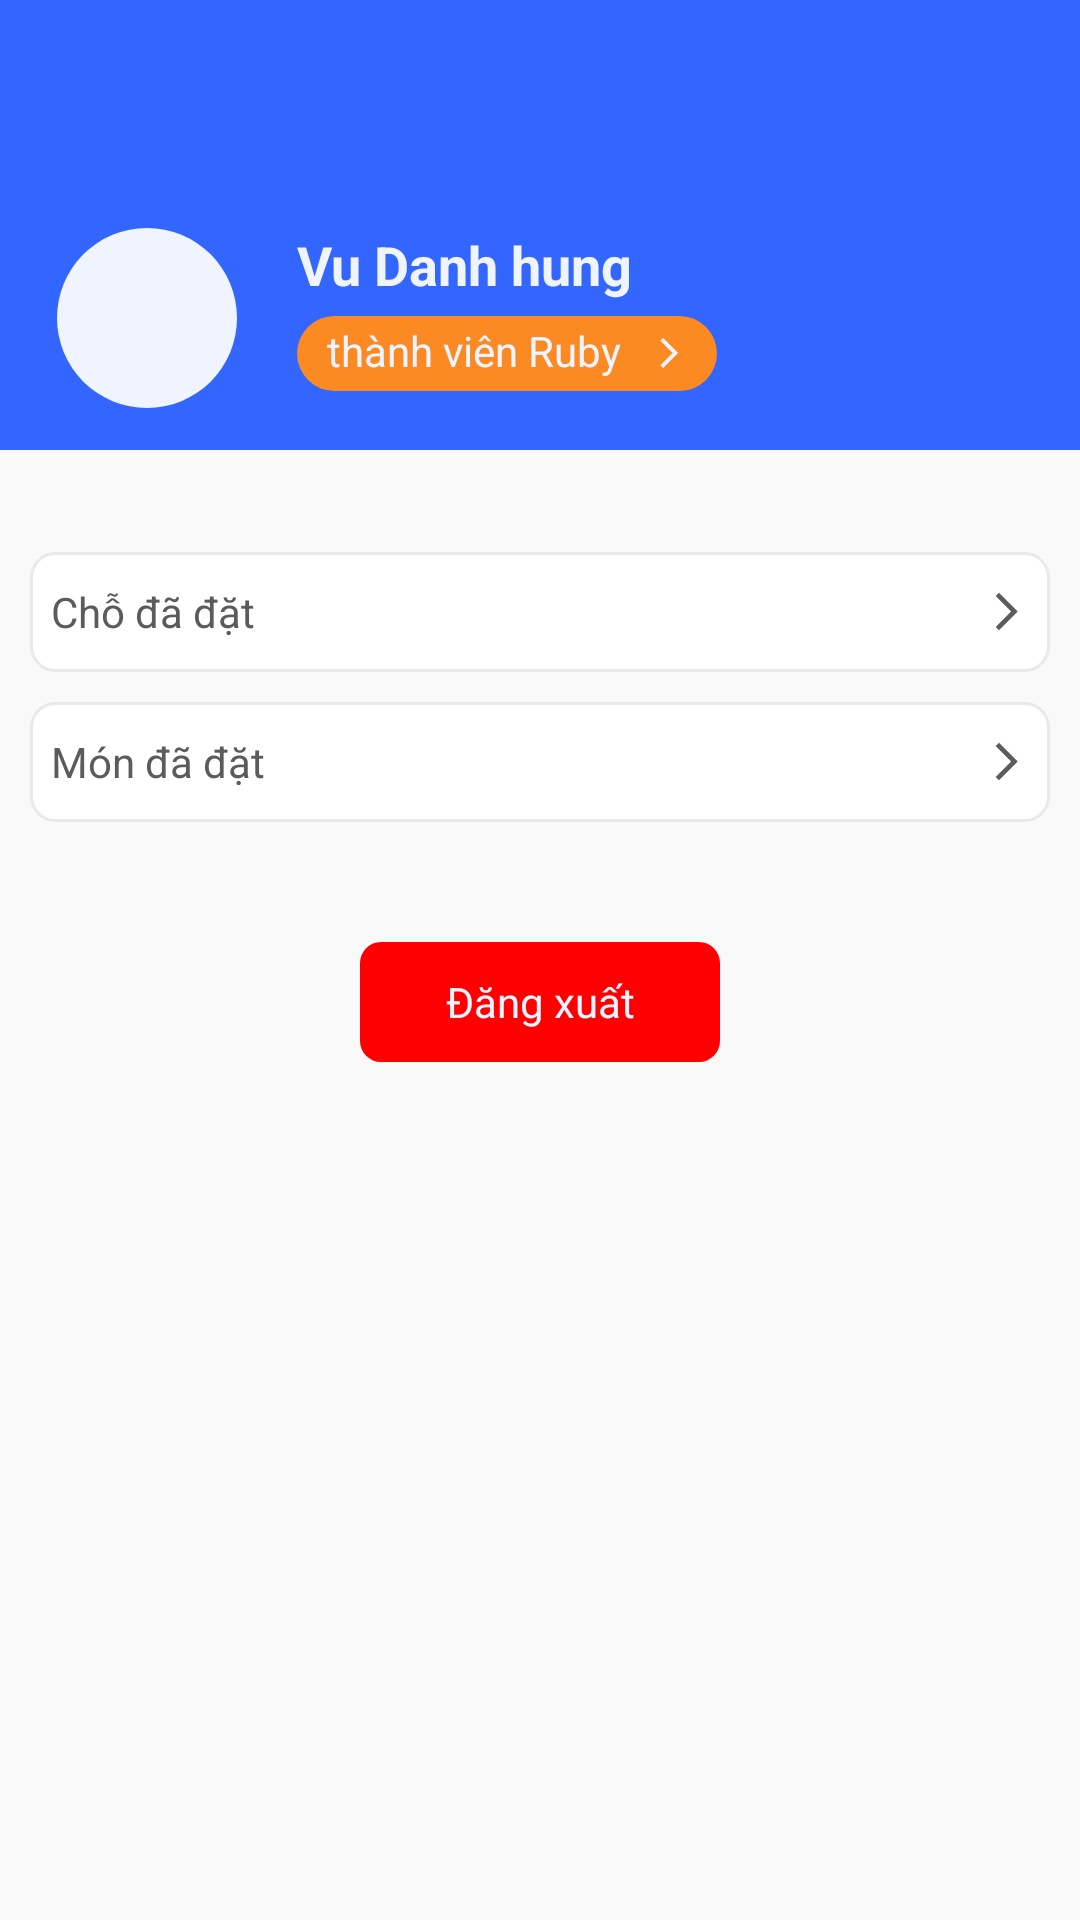

Icon click points for this 1080 × 1920 phone screenshot, format [x,y]:
arrow forward: [669,353], [1007,611], [1007,761]
